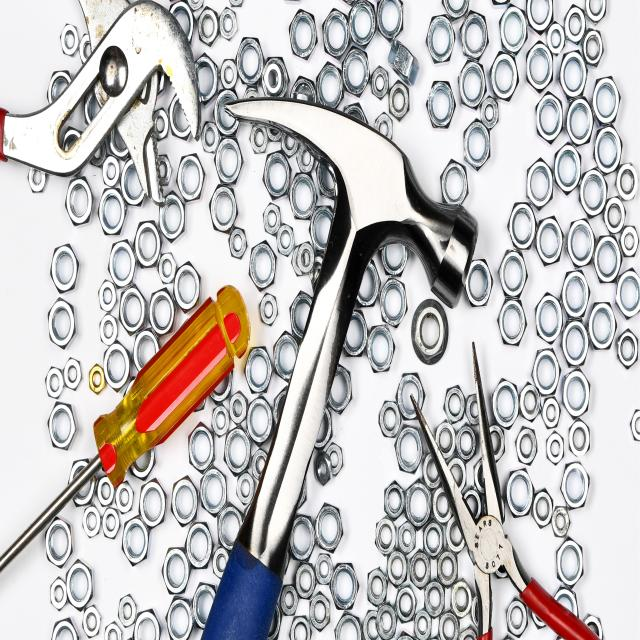Screwdriver: (0, 287, 250, 573)
